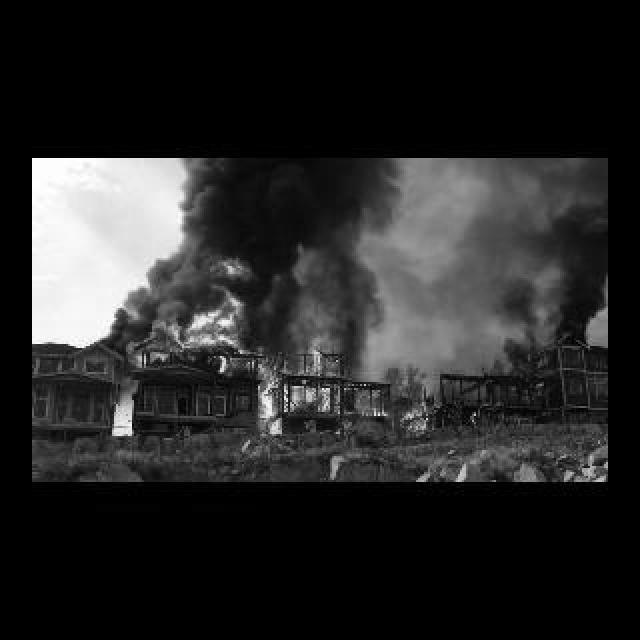Fire: (134, 308, 270, 436), (260, 338, 382, 432), (400, 394, 432, 442)
Smoke: (120, 160, 410, 310), (472, 162, 608, 372)
